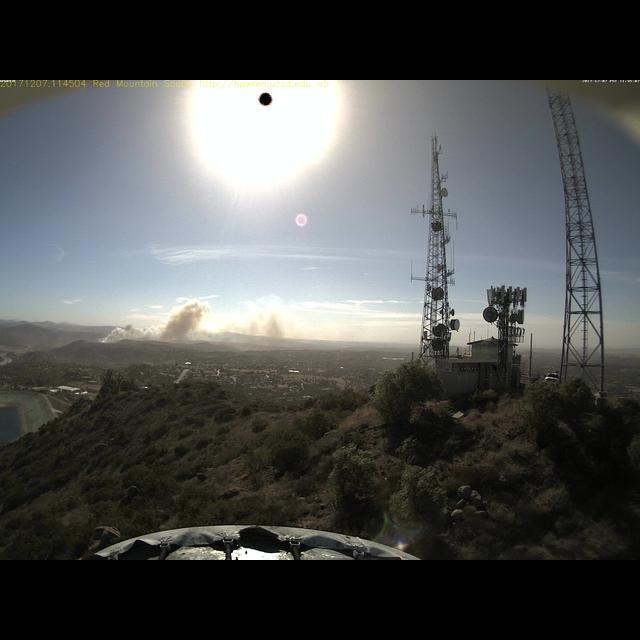Smoke: (99, 289, 211, 348)
